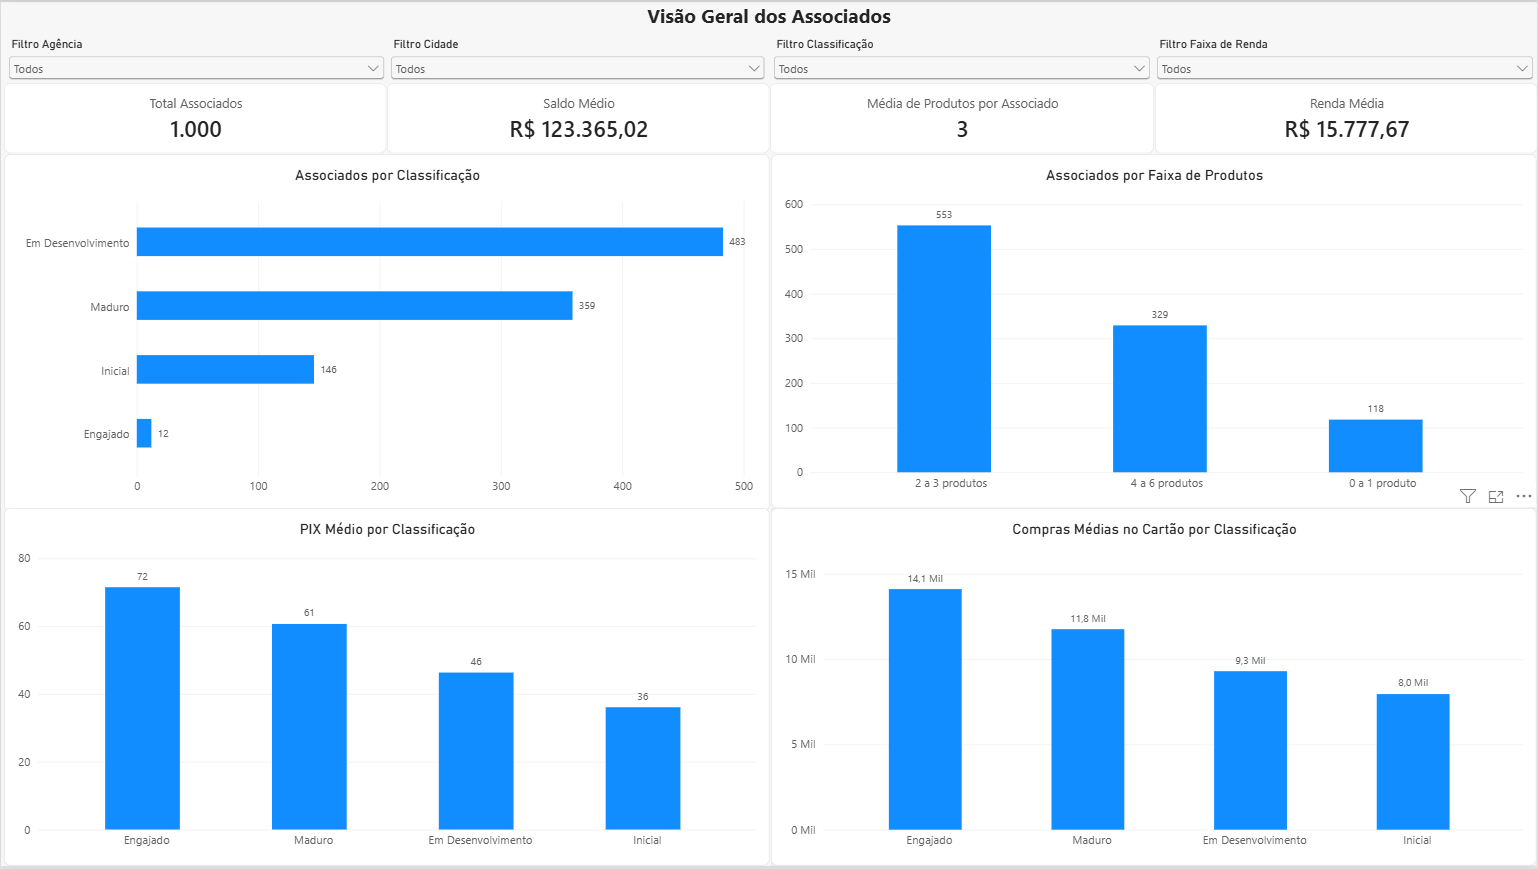

Layout of this report page (visuals, bound fields, positions):
{"tool":"powerbi","page":{"name":"Visão Geral","canvas":[1920,1080],"ordinal":0},"visuals":[{"type":"cardVisual","fields":{"Data":["Associados.Total Associados"]},"box":[3.7,101.2,478.6,88.6],"z":0},{"type":"cardVisual","fields":{"Data":["Associados.Saldo Médio"]},"box":[482.7,101.2,478.6,88.6],"z":1000},{"type":"cardVisual","title":"Média de Produtos por Associado","fields":{"Data":["Associados.Produtos por Associado"]},"box":[961.7,101.2,480,88.6],"z":2000},{"type":"cardVisual","fields":{"Data":["Associados.Renda Média"]},"box":[1442,101.2,478.6,88.6],"z":3000},{"type":"clusteredBarChart","title":"Associados por Classificação","fields":{"Category":["Associados.CLASSIFICACAO"],"Y":["Associados.Total Associados"]},"box":[3.7,190.1,956.8,446.9],"z":4000},{"type":"slicer","fields":{"Values":["Associados.AGENCIA"]},"box":[4.5,44.7,478.6,58.6],"z":5000},{"type":"slicer","fields":{"Values":["Associados.CIDADE"]},"box":[483.1,44.7,477.1,58.6],"z":6000},{"type":"slicer","fields":{"Values":["Associados.CLASSIFICACAO"]},"box":[961.7,44.7,480,58.6],"z":7000},{"type":"slicer","fields":{"Values":["Associados.FAIXA_RENDA"]},"box":[1440.2,44.7,480,58.6],"z":8000},{"type":"textbox","box":[0,0,1920,44.3],"z":9000},{"type":"clusteredColumnChart","title":"Associados por Faixa de Produtos","fields":{"Category":["Associados.FAIXA_PRODUTOS"],"Y":["Associados.Total Associados"]},"box":[962.9,190,957.1,442.9],"z":10000},{"type":"clusteredColumnChart","title":"PIX Médio por Classificação","fields":{"Category":["Associados.CLASSIFICACAO"],"Y":["Avg(Associados.PIX_MENSAL)"]},"box":[4.3,632.9,956.8,446.9],"z":11000},{"type":"clusteredColumnChart","title":"Compras Médias no Cartão por Classificação","fields":{"Category":["Associados.CLASSIFICACAO"],"Y":["Avg(Associados.COMPRAS_CARTAO)"]},"box":[962.9,632.9,957.1,447.1],"z":12000}]}

Visuals, with their boxes in screenshot pixels (x1, y1, x2, y2), scaled from the page's 1920x1080 canvas onto the 1538x869 screenshot:
cardVisual - Associados.Total Associados: locate(3, 81, 386, 153)
cardVisual - Associados.Saldo Médio: locate(387, 81, 770, 153)
"Média de Produtos por Associado" cardVisual: locate(770, 81, 1155, 153)
cardVisual - Associados.Renda Média: locate(1155, 81, 1537, 153)
"Associados por Classificação" clusteredBarChart: locate(3, 153, 769, 513)
slicer - Associados.AGENCIA: locate(4, 36, 387, 83)
slicer - Associados.CIDADE: locate(387, 36, 769, 83)
slicer - Associados.CLASSIFICACAO: locate(770, 36, 1155, 83)
slicer - Associados.FAIXA_RENDA: locate(1154, 36, 1537, 83)
textbox: locate(0, 0, 1537, 36)
"Associados por Faixa de Produtos" clusteredColumnChart: locate(771, 153, 1537, 509)
"PIX Médio por Classificação" clusteredColumnChart: locate(3, 509, 770, 868)
"Compras Médias no Cartão por Classificação" clusteredColumnChart: locate(771, 509, 1537, 868)
